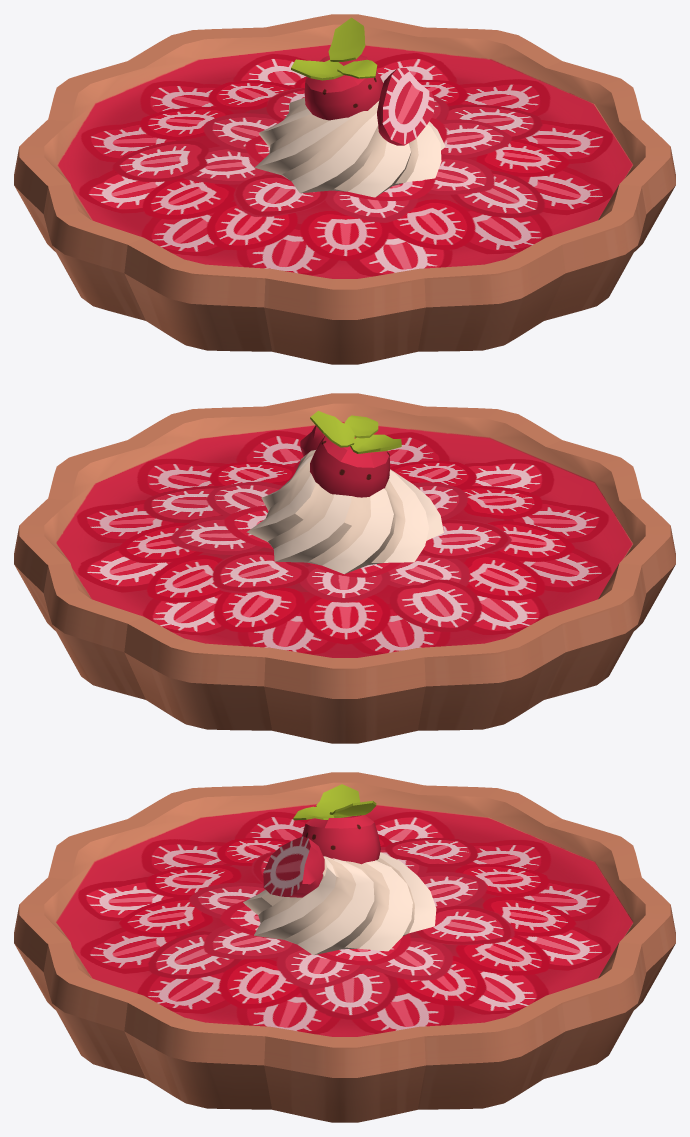
The model's file is m_pieV2.fbx.
The picture shows the model from 3 angles, top to bottom: view 1: azimuth 30°, elevation 25°; view 2: azimuth 150°, elevation 25°; view 3: azimuth 270°, elevation 25°; orthographic projection.
Parts seen in each view (by area): view 1: pieV2; view 2: pieV2; view 3: pieV2.
Part boxes in pixels (left/top/right/bottom): pieV2: left=14, top=14, right=675, bottom=364; pieV2: left=14, top=393, right=675, bottom=743; pieV2: left=14, top=772, right=675, bottom=1122.
Bounding box in the file's own units: 33.02 × 11.38 × 33.02.
